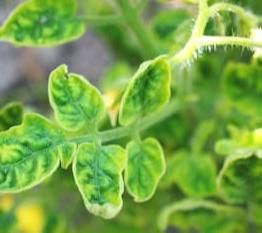Tomato leaf yellow virus: (0, 119, 73, 198), (68, 133, 130, 223), (0, 0, 85, 58), (41, 61, 104, 138), (126, 46, 175, 132)
